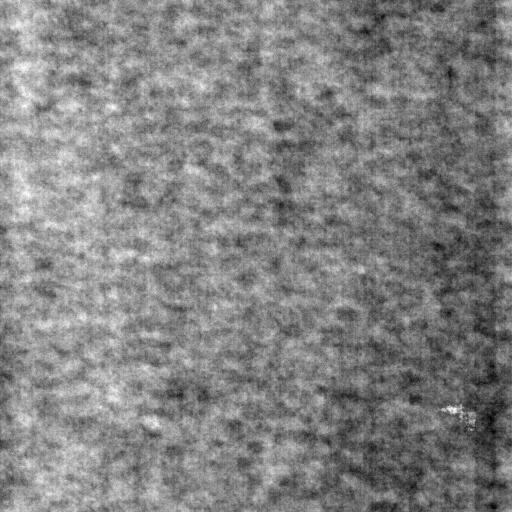DefectTypeA: (440, 404, 483, 431)
